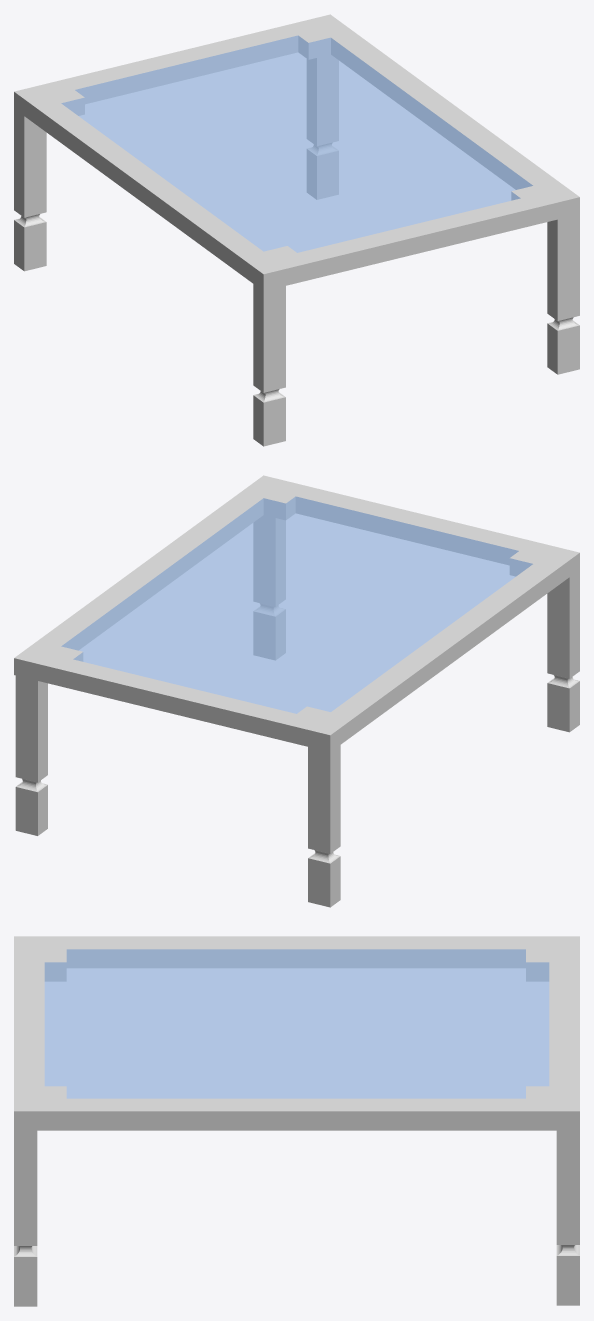
Rendered from class table.fbx.
3 renders of one model, top to bottom at view 1: azimuth 30°, elevation 25°; view 2: azimuth 150°, elevation 25°; view 3: azimuth 270°, elevation 25°, orthographic. The views are drawn at different scales.
Visible parts, largest first — view 1: group_0.003, group_0, group_0.004, instance_1, instance_0, instance_2, instance_3; view 2: group_0.003, group_0, group_0.004, instance_2, instance_3, instance_1, instance_0; view 3: group_0.003, group_0, group_0.004, instance_0, instance_3.
Part boxes in pixels (bbox=[...]): group_0.003: bbox=[61, 35, 532, 252]; group_0: bbox=[14, 14, 579, 291]; group_0.004: bbox=[62, 36, 532, 199]; instance_1: bbox=[253, 284, 285, 446]; instance_0: bbox=[547, 214, 579, 374]; instance_2: bbox=[14, 109, 46, 271]; instance_3: bbox=[307, 55, 338, 199]; group_0.003: bbox=[61, 496, 532, 713]; group_0: bbox=[14, 475, 579, 752]; group_0.004: bbox=[62, 497, 532, 661]; instance_2: bbox=[308, 745, 340, 907]; instance_3: bbox=[15, 675, 47, 835]; instance_1: bbox=[547, 570, 579, 732]; instance_0: bbox=[253, 515, 285, 659]; group_0.003: bbox=[44, 949, 549, 1098]; group_0: bbox=[14, 936, 579, 1130]; group_0.004: bbox=[45, 949, 548, 981]; instance_0: bbox=[14, 1130, 37, 1306]; instance_3: bbox=[556, 1130, 579, 1305].
Size of the model in its own units: 137 by 71 by 187.
